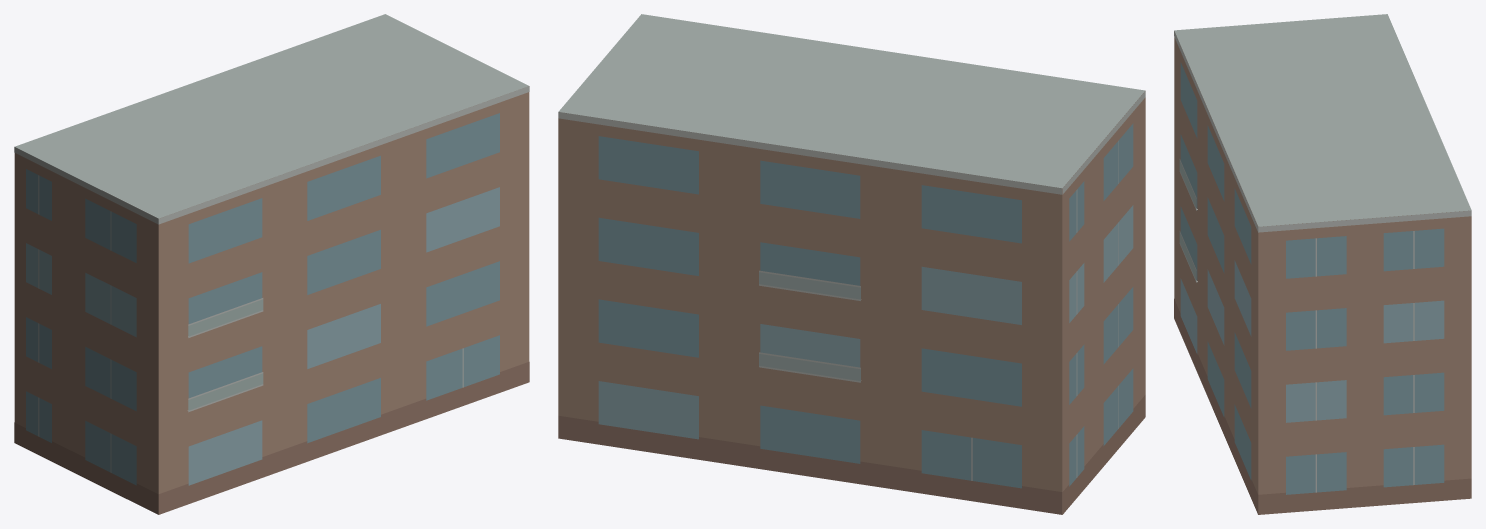
Rendered from residential-3b42afbf-c36f-44e4-87dd-ea8cadbfbba6.glb.
The picture shows the model from 3 angles, left to right: view 1: azimuth 30°, elevation 25°; view 2: azimuth 150°, elevation 25°; view 3: azimuth 270°, elevation 25°; orthographic projection. The views are drawn at different scales.
Visible parts, largest first — view 1: residential-3b42afbf-c36f-44e4-87dd-ea8cadbfbba6.tmp; view 2: residential-3b42afbf-c36f-44e4-87dd-ea8cadbfbba6.tmp; view 3: residential-3b42afbf-c36f-44e4-87dd-ea8cadbfbba6.tmp.
Part boxes in pixels (x1=…): residential-3b42afbf-c36f-44e4-87dd-ea8cadbfbba6.tmp: x1=14, y1=14, x2=529, y2=514; residential-3b42afbf-c36f-44e4-87dd-ea8cadbfbba6.tmp: x1=558, y1=14, x2=1145, y2=514; residential-3b42afbf-c36f-44e4-87dd-ea8cadbfbba6.tmp: x1=1174, y1=14, x2=1471, y2=514.
Bounding box in the file's own units: 19.34 × 12.2 × 11.43.
